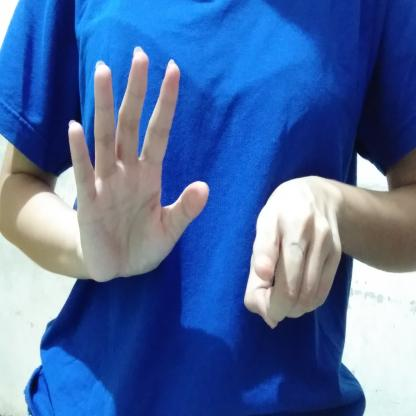stop: (62, 40, 348, 333)
